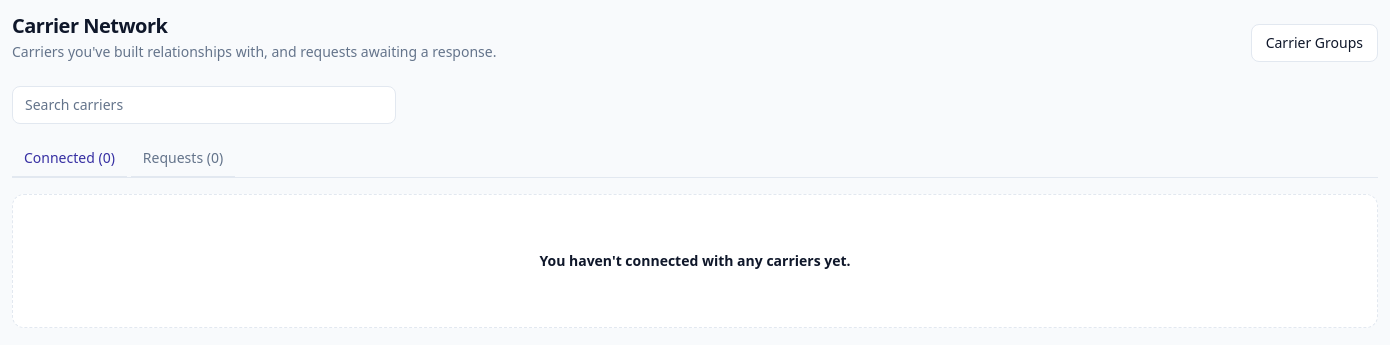
NetworkWorkspace › shows the truthful empty state for Requests
Click the tab "Requests (0)": (183,159) [131,140,235,178]
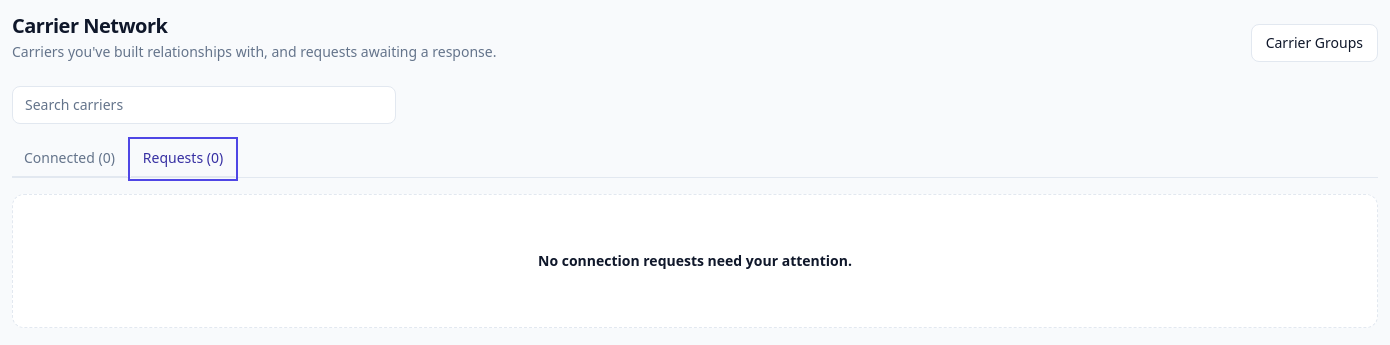
Check: the text "No connection requests need your attention." is shown, box [538,251,852,271]
